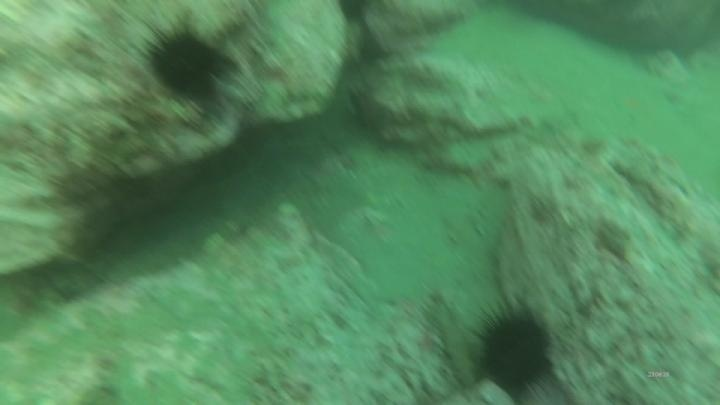echinus: (470, 297, 560, 401), (139, 19, 233, 106)
starfish: (419, 287, 491, 390)
